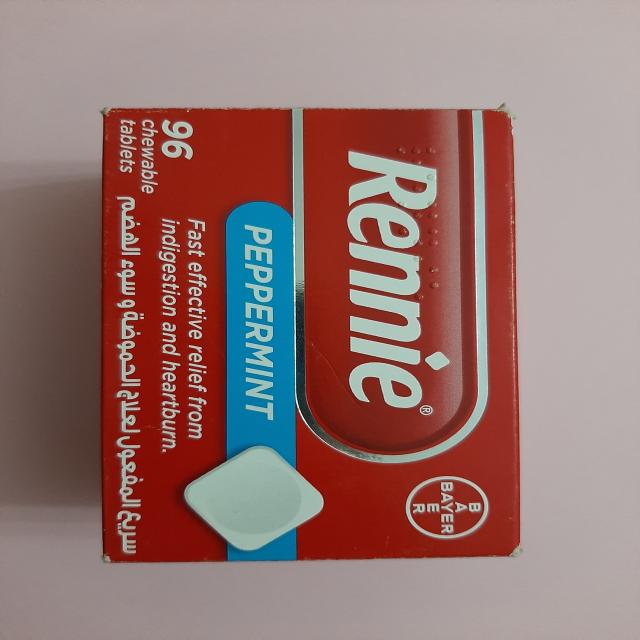medicine_packaging: (77, 59, 560, 599)
